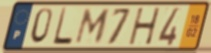0: (28, 7, 54, 46)
4: (157, 6, 180, 48)
7: (108, 7, 133, 46)
H: (127, 6, 162, 47)
L: (51, 6, 74, 47)
M: (73, 8, 112, 46)
